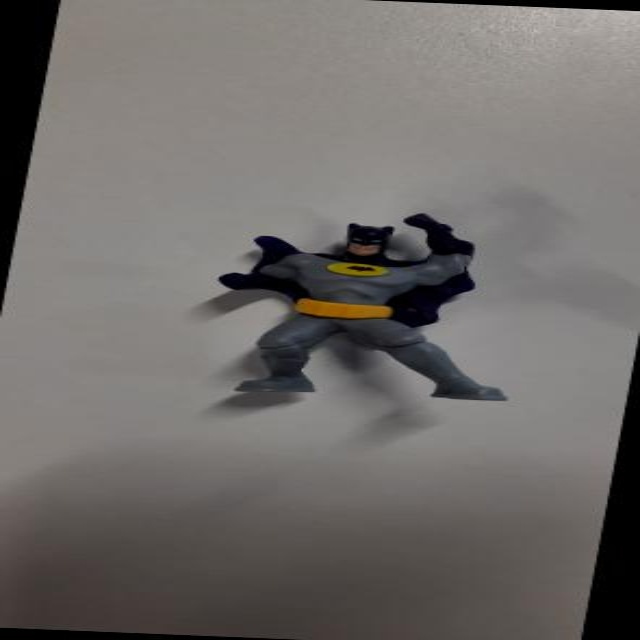Batman: (176, 198, 553, 425)
